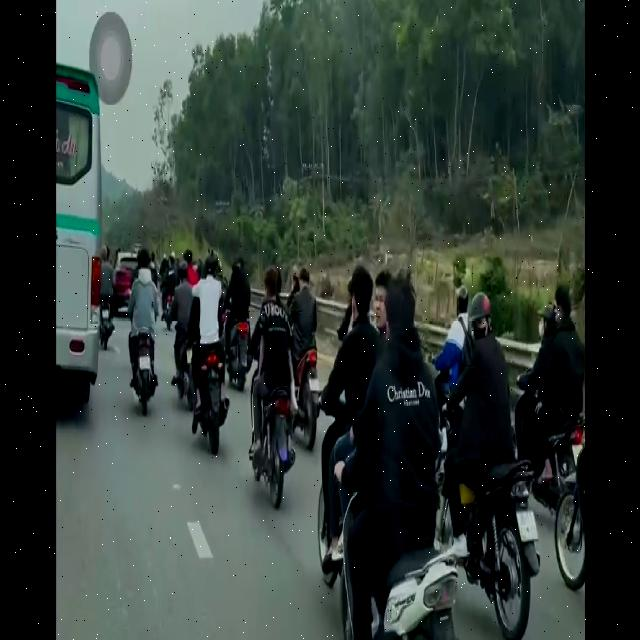helmet: (470, 289, 494, 348), (455, 282, 468, 329), (208, 248, 220, 294)
no_helmet: (388, 267, 412, 355), (353, 259, 372, 337), (263, 264, 281, 313), (551, 286, 570, 324), (139, 242, 151, 278), (300, 262, 310, 298)
